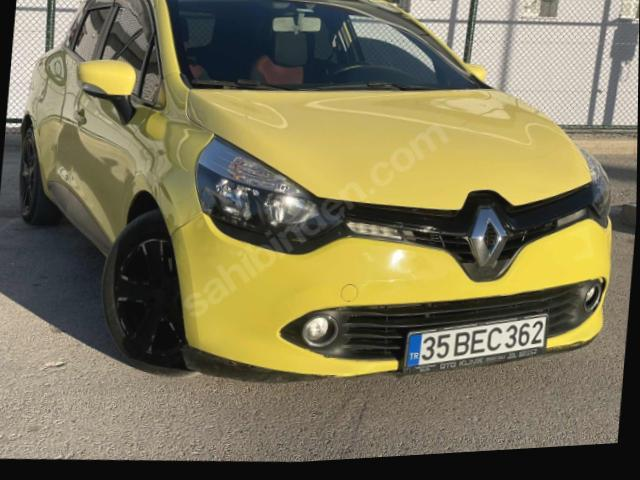plaka: (405, 314, 547, 366)
